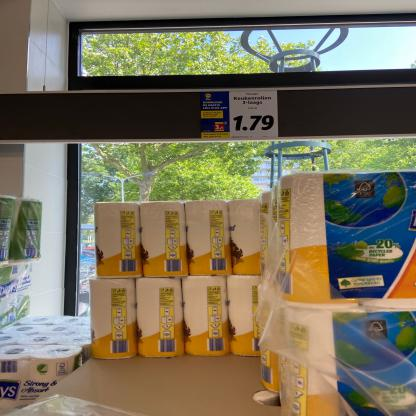prtg: (230, 91, 279, 139)
